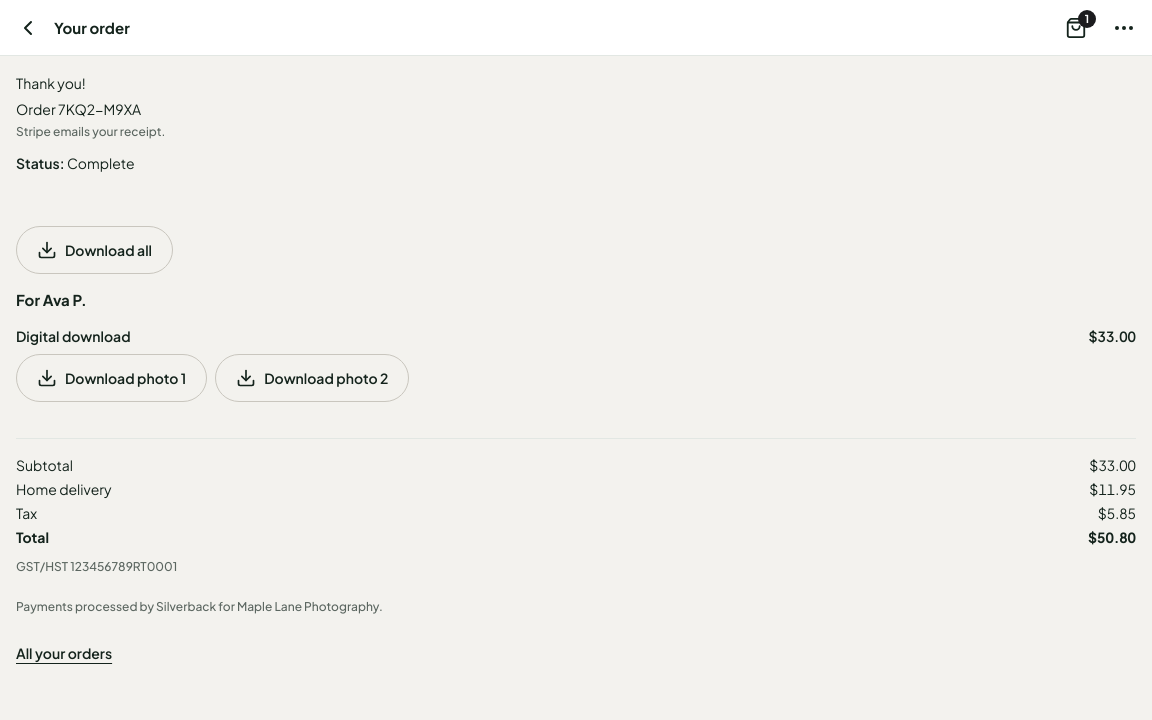
Test: the order page after payment (ADR 0024) › downloads every photo as one zip, and says when it is being prepared
The width and height of the screenshot is (1152, 720).
Click the button "Download all".
click(94, 250)  # box [16,226,173,274]
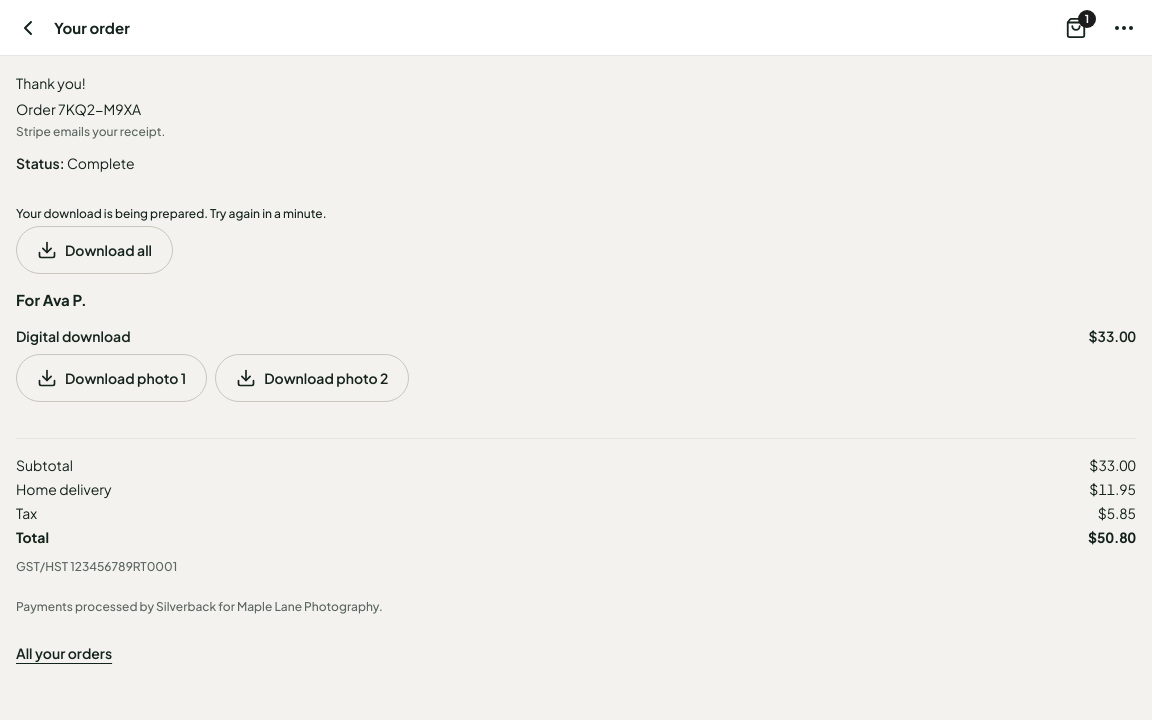
Expected: the text "Your download is being prepared. Try again in a minute." is shown, [16,206,326,221]
Click the button "Download all".
click(94, 250)  # box [16,226,173,274]
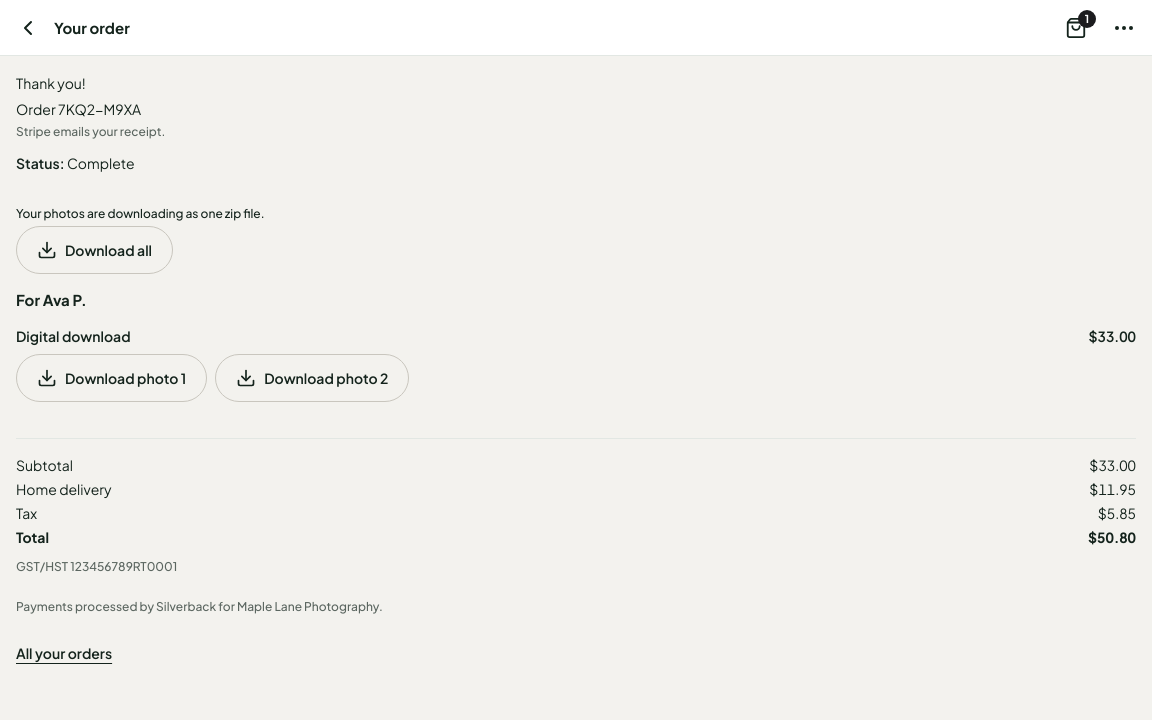
Expected: the text "Your photos are downloading as one zip file." is shown, [16,206,264,221]
